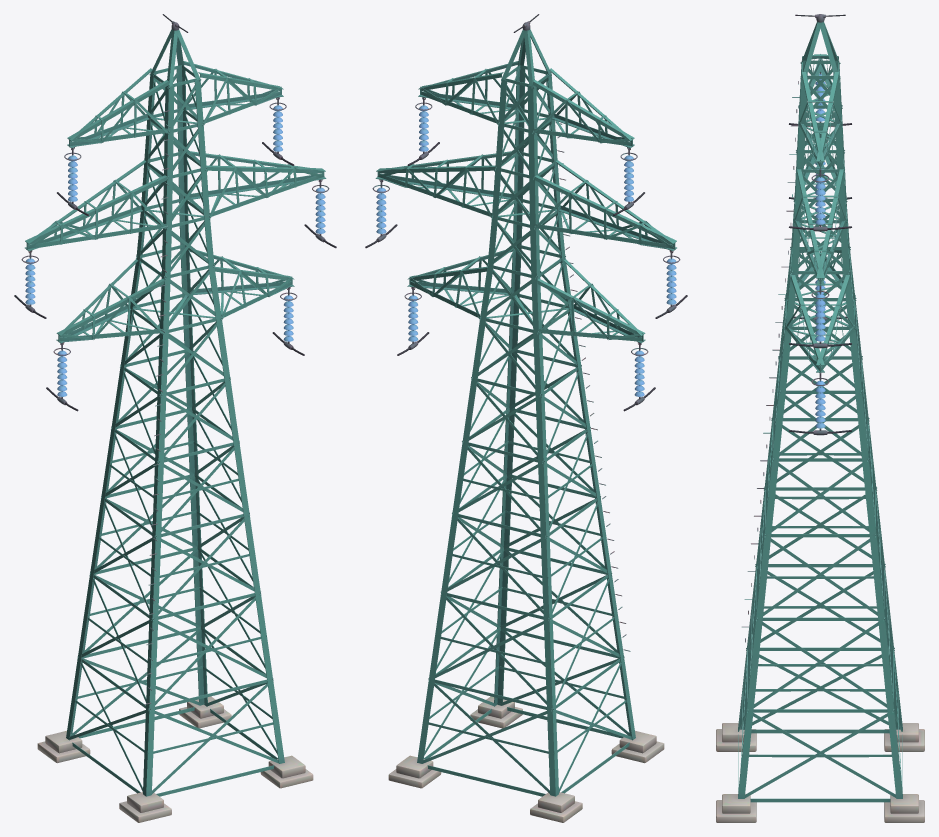
The model's file is receiver-tower.glb.
The picture shows the model from 3 angles, left to right: view 1: azimuth 30°, elevation 25°; view 2: azimuth 150°, elevation 25°; view 3: azimuth 270°, elevation 25°; orthographic projection. The views are drawn at different scales.
Parts seen in each view (by area): view 1: power-line-tower_body; view 2: power-line-tower_body; view 3: power-line-tower_body.
Part boxes in pixels (left/top/right/bottom): power-line-tower_body: left=14, top=14, right=336, bottom=822; power-line-tower_body: left=365, top=14, right=687, bottom=822; power-line-tower_body: left=716, top=14, right=924, bottom=822.
Size of the model in its own units: 8.63 by 20.06 by 4.96.
Materials: 1 (1 with a texture image).
